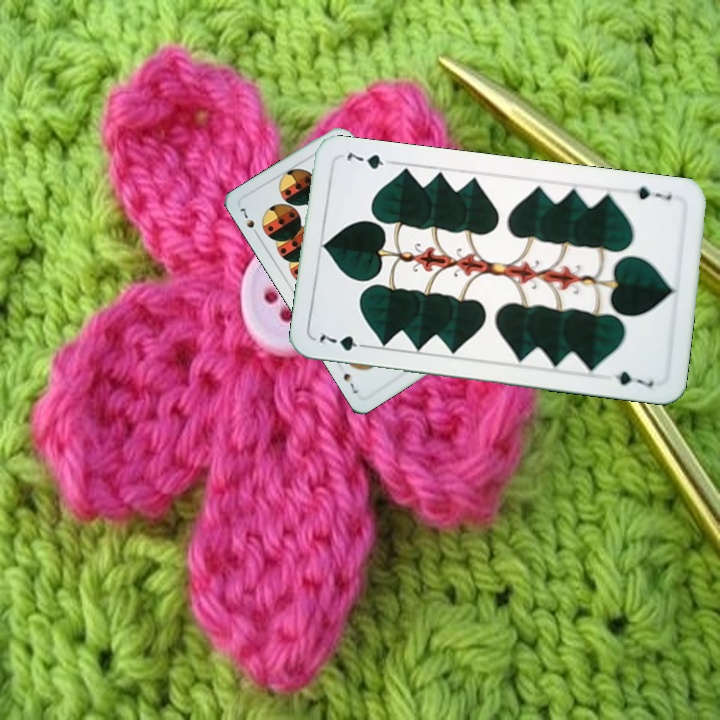G7: (315, 330, 372, 354), (624, 182, 675, 203)
S7: (236, 204, 262, 239)
